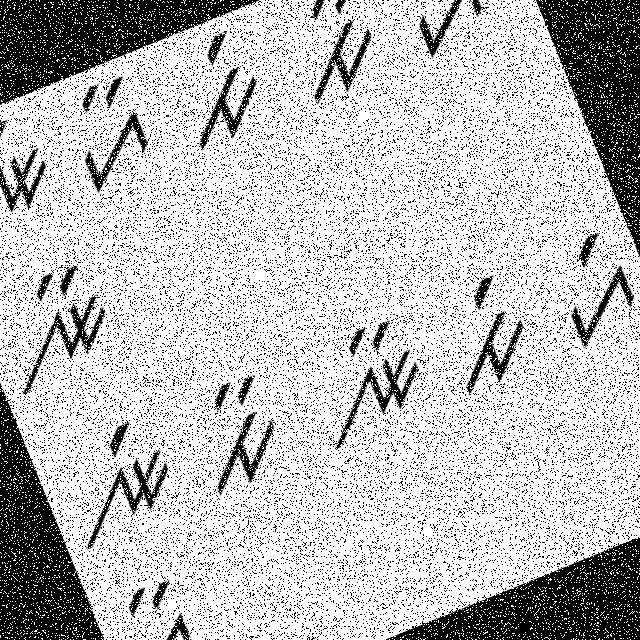han: (54, 66, 168, 200), (101, 571, 216, 639)
hang: (529, 212, 639, 362), (382, 0, 509, 66)
mban: (172, 360, 304, 502), (273, 0, 400, 113)
mbang: (147, 12, 287, 166), (421, 266, 547, 399)
ndan: (290, 303, 443, 458), (0, 249, 135, 398)
ndang: (38, 406, 194, 566), (0, 103, 69, 256)
